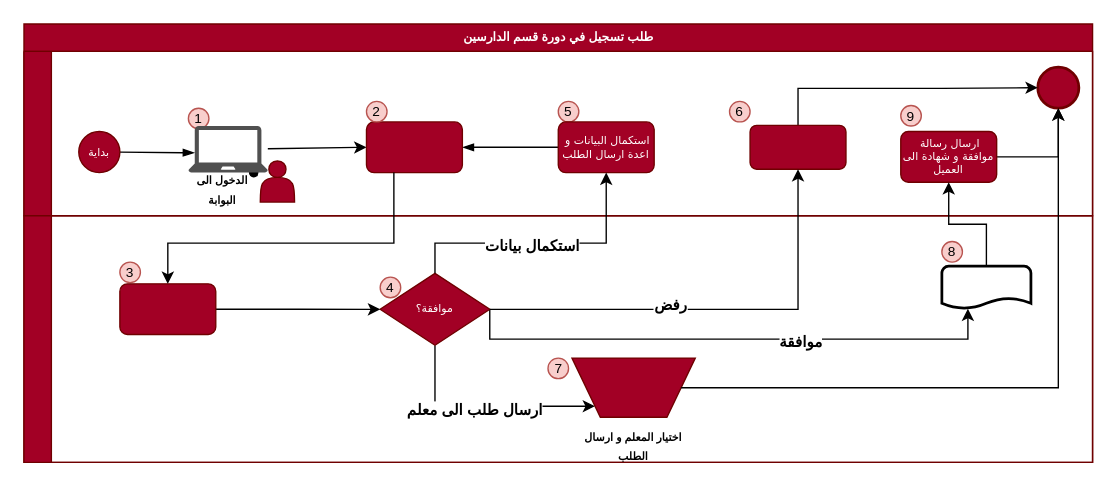
The diagram is 1117 pixels wide and 490 high, and some of its shapes have lost their labels. Here are the shapes that lost their labels. From the top down, the box of each, then its label:
(1036, 65, 1080, 109): اغلاق
(365, 121, 462, 173): تعبئة و نموذج طلب طلب التسجيل في دورة قسم الدارسين
(23, 50, 1093, 216): المتعامل
(749, 124, 846, 169): رسالة إعتذار إلى العميل
(940, 264, 1032, 309): اصدار شهادة
(119, 282, 216, 335): استلام الطلب و مراجعته
(23, 214, 1093, 462): قسم الدارسين
